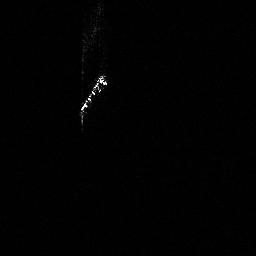ship: (81, 74, 107, 112)
